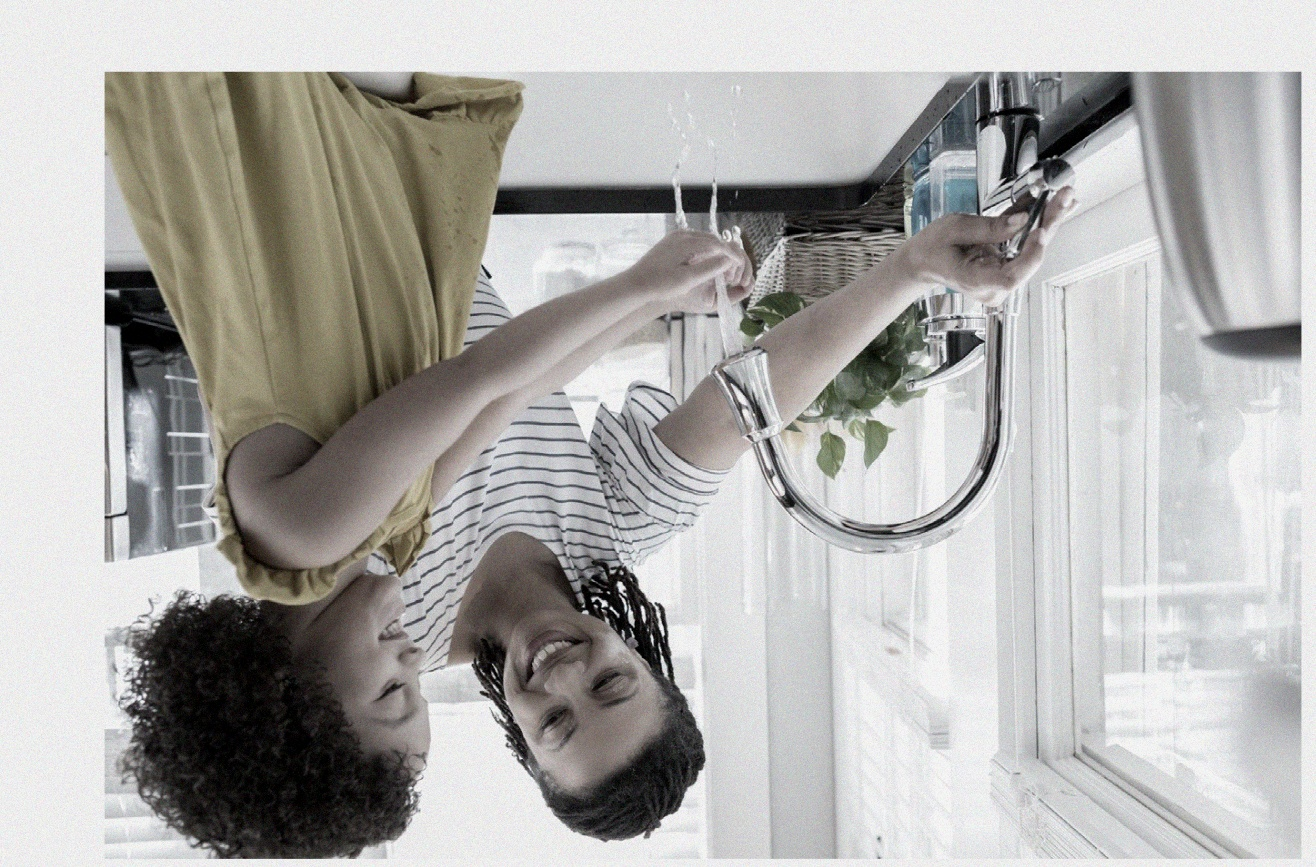washing hand: (656, 96, 1078, 606)
